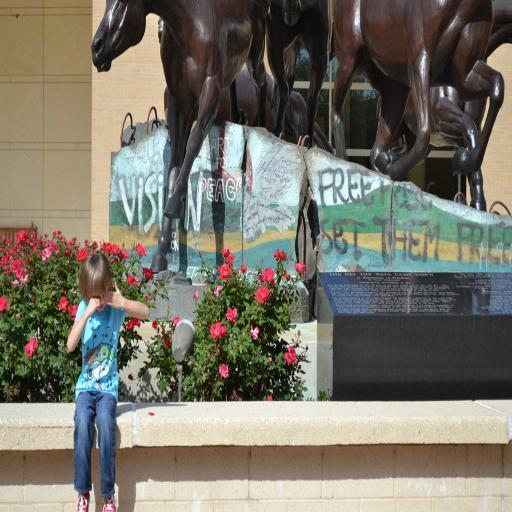horse: (87, 0, 512, 275)
